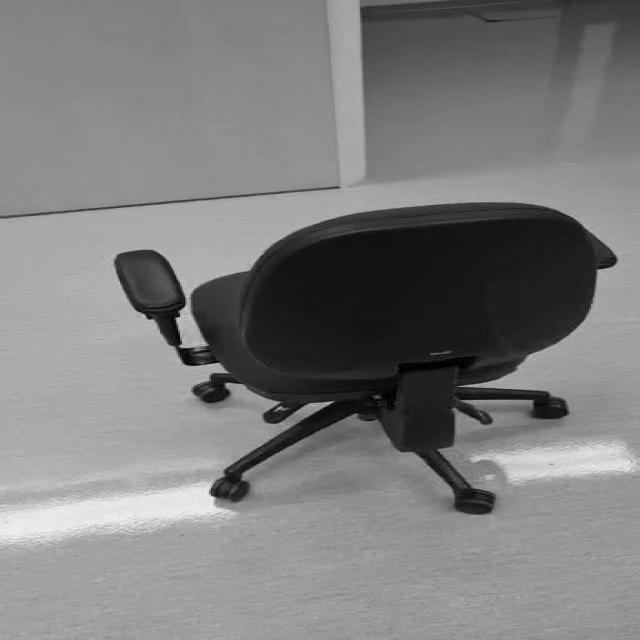chair: (117, 202, 617, 514)
